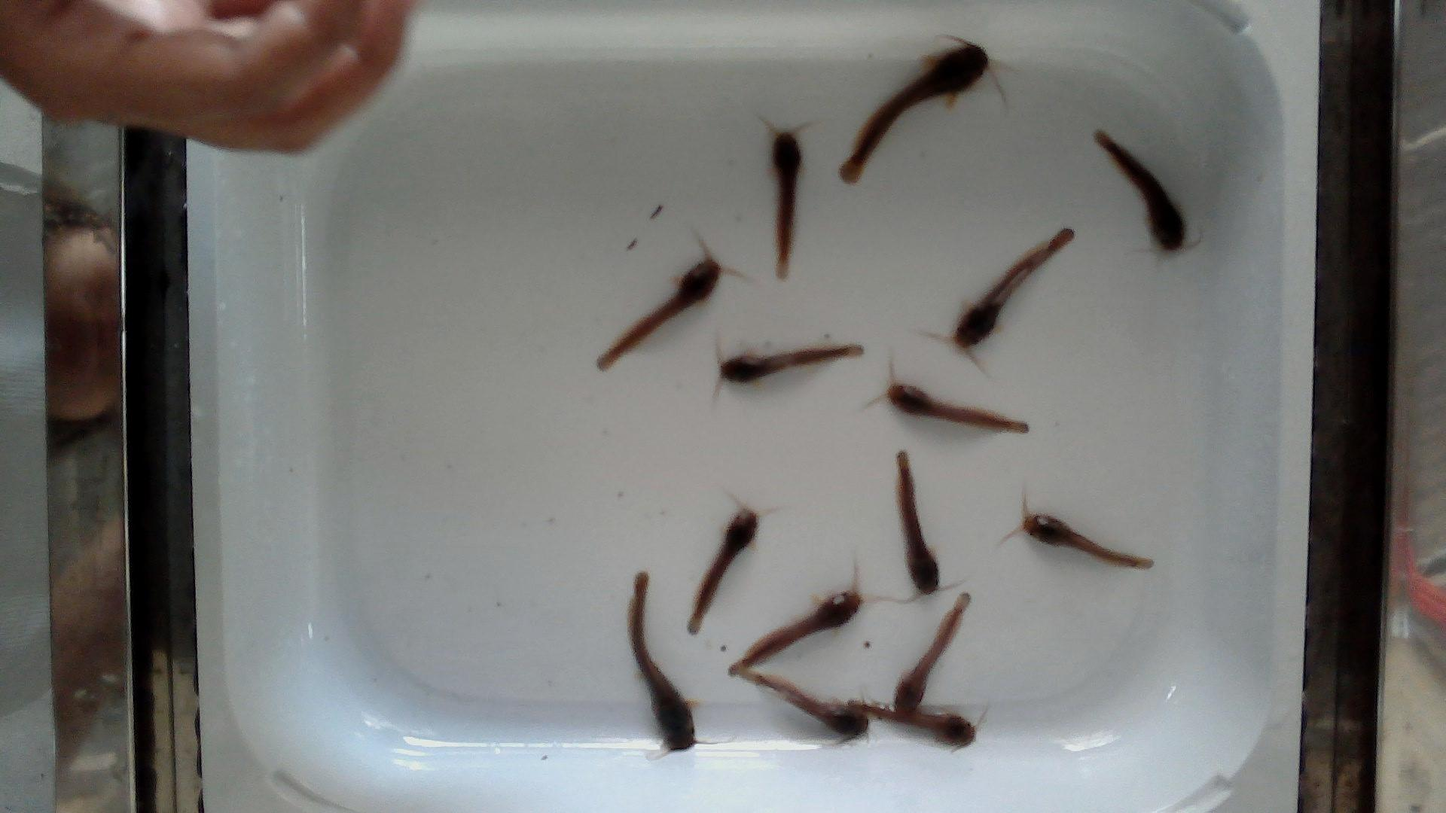lele: (840, 41, 988, 183), (953, 228, 1073, 349), (598, 254, 723, 369), (629, 571, 695, 751), (731, 591, 862, 676), (1094, 131, 1185, 250), (893, 593, 969, 712), (688, 507, 758, 633), (743, 668, 870, 735), (1022, 507, 1152, 568), (886, 383, 1027, 433), (896, 452, 938, 593), (856, 701, 977, 746), (720, 344, 861, 382), (772, 131, 801, 278)
